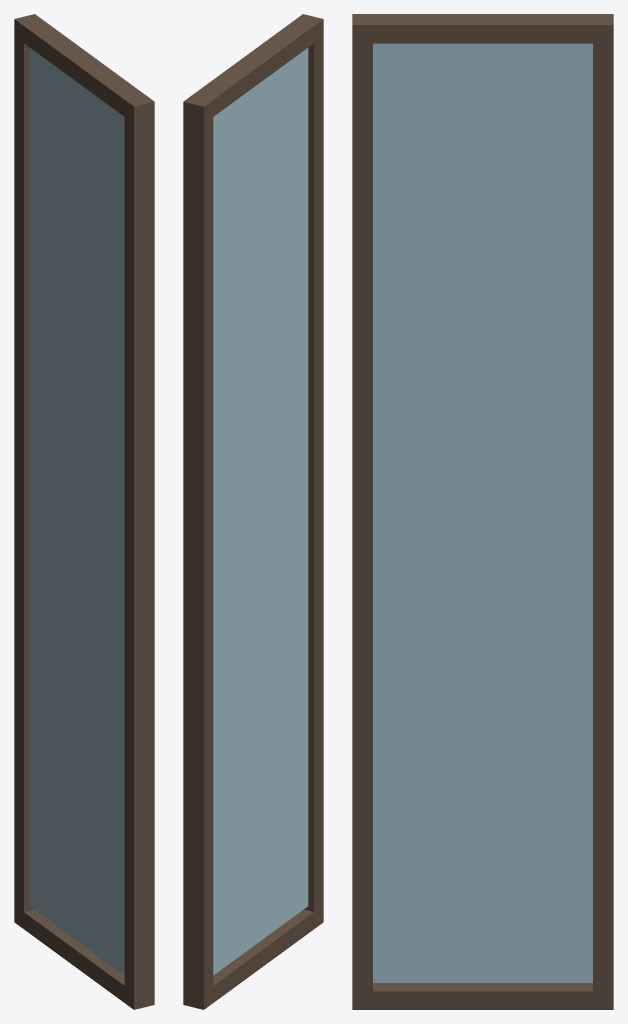
File: Window_6.fbx
3 renders of one model, left to right at view 1: azimuth 30°, elevation 25°; view 2: azimuth 150°, elevation 25°; view 3: azimuth 270°, elevation 25°, orthographic. The views are drawn at different scales.
Visible parts, largest first — view 1: Window_6; view 2: Window_6; view 3: Window_6.
Part boxes in pixels (x1=…): Window_6: x1=14, y1=14, x2=154, y2=1009; Window_6: x1=183, y1=14, x2=323, y2=1009; Window_6: x1=352, y1=14, x2=613, y2=1009.
Bounding box in the file's own units: 7.61 × 76.65 × 319.
